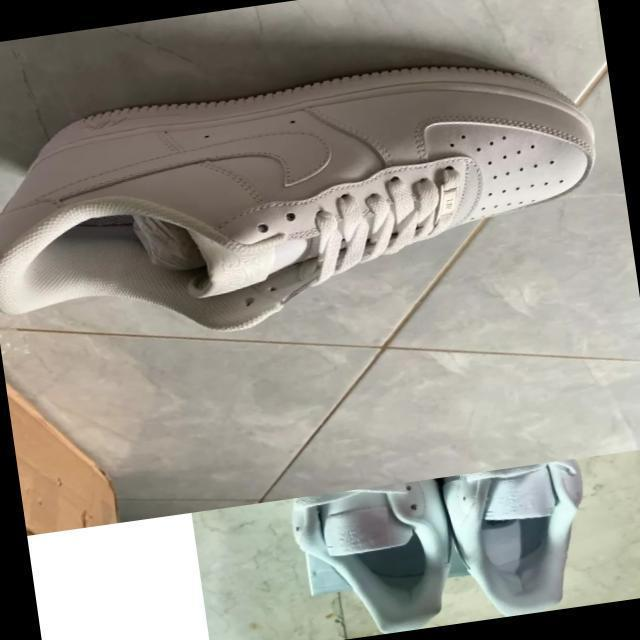nike original air force: (0, 39, 615, 361)
